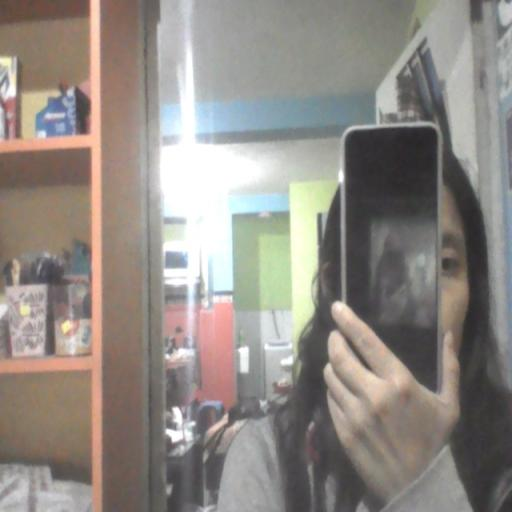phone: (338, 112, 444, 399)
